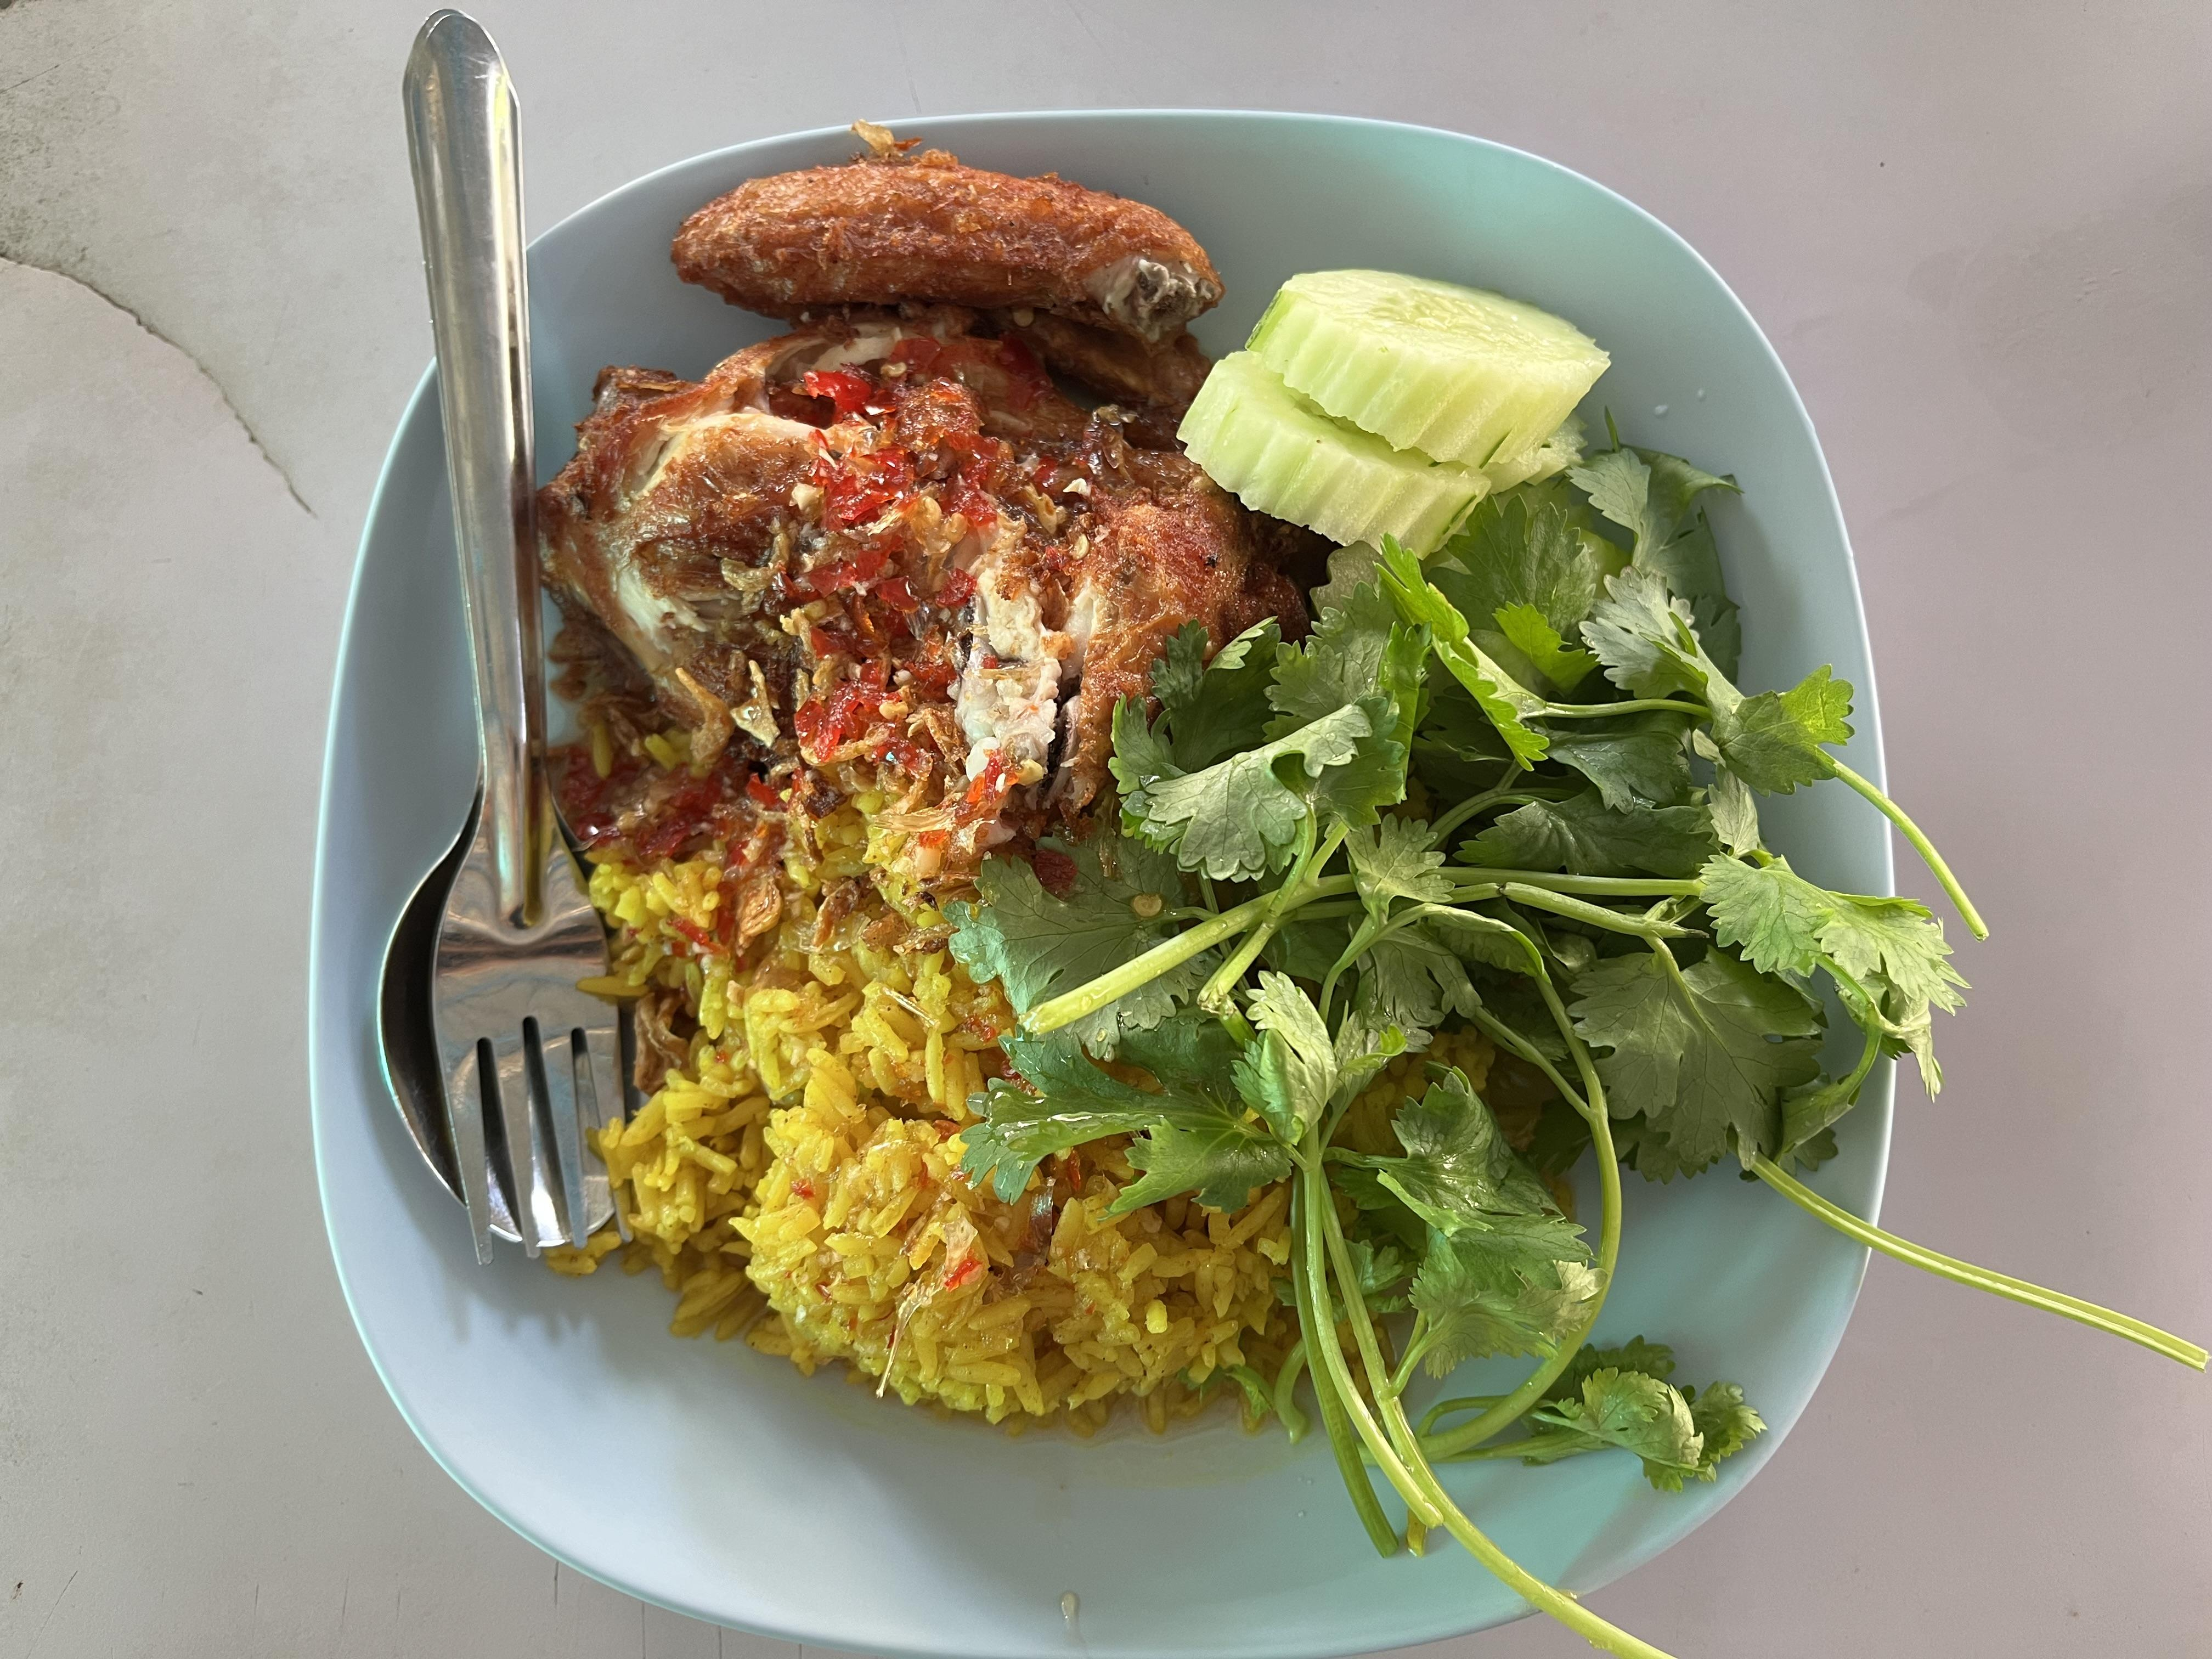carbohydrate: (296, 444, 1552, 1084)
meat: (1099, 404, 2013, 925)
vegetable: (185, 786, 1853, 1462)
